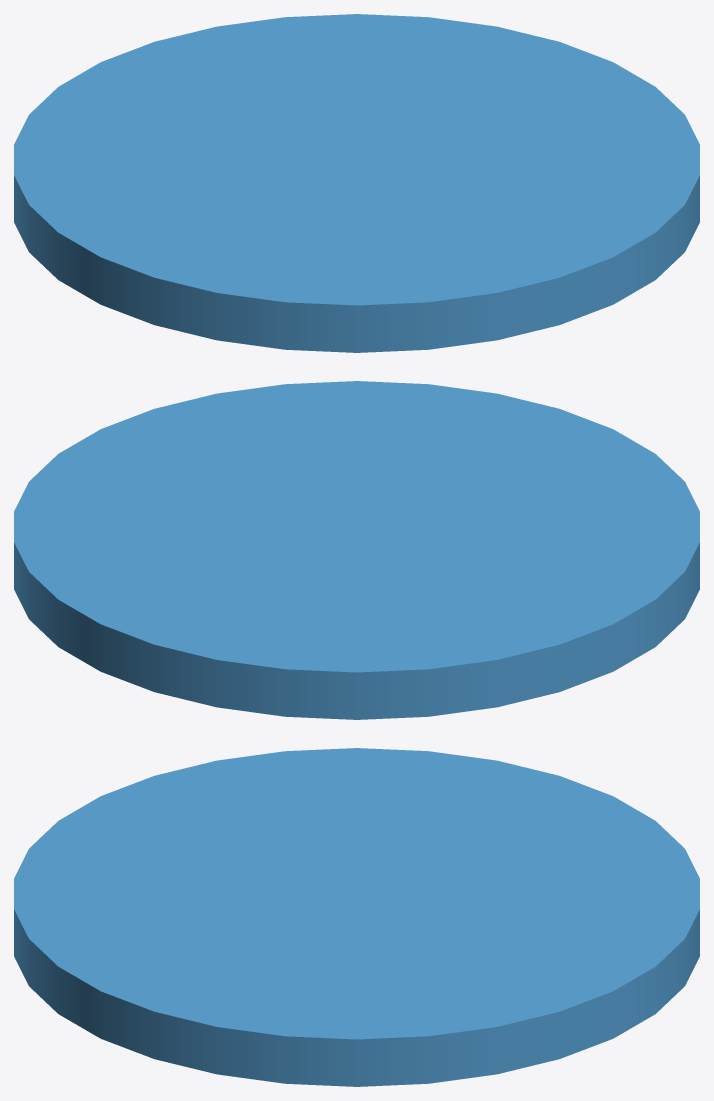
File: Ground - Ice (Inside).FBX
The picture shows the model from 3 angles, top to bottom: view 1: azimuth 30°, elevation 25°; view 2: azimuth 150°, elevation 25°; view 3: azimuth 270°, elevation 25°; orthographic projection.
Parts seen in each view (by area): view 1: Object001; view 2: Object001; view 3: Object001.
Boxes of the visible parts, bbox=[...] form: Object001: bbox=[14, 14, 699, 352]; Object001: bbox=[14, 381, 699, 719]; Object001: bbox=[14, 748, 699, 1086].
Size of the model in its own units: 30.72 by 2.33 by 30.55.
